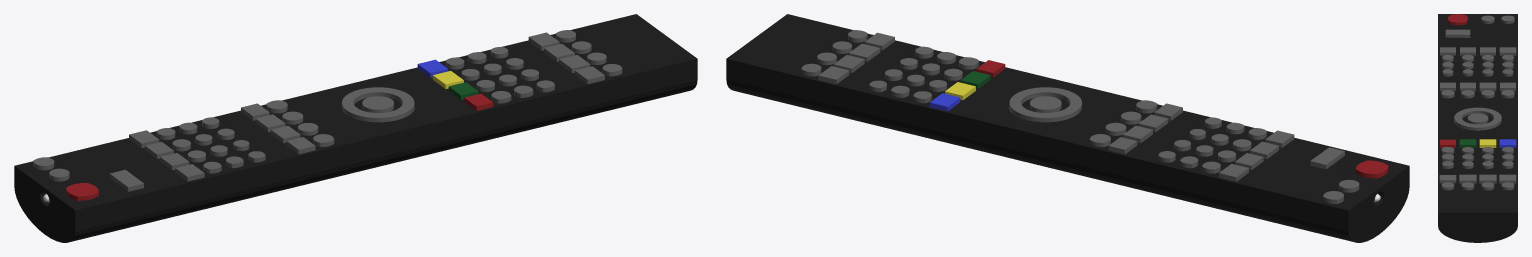
File: uploads_files_2957425_TVremote.fbx
3 views of the same model, side by side, from view 1: azimuth 30°, elevation 25°; view 2: azimuth 150°, elevation 25°; view 3: azimuth 270°, elevation 25° (orthographic). The views are drawn at different scales.
Parts seen in each view (by area): view 1: Cylinder.001, Cylinder, Cylinder.003; view 2: Cylinder.001, Cylinder, Cylinder.003; view 3: Cylinder.001, Cylinder.003, Cylinder.
Part boxes in pixels (x1,y1,x2,y2): Cylinder.001: (14,14,697,199); Cylinder: (14,59,697,242); Cylinder.003: (26,30,630,210); Cylinder.001: (726,14,1378,210); Cylinder: (726,59,1409,242); Cylinder.003: (793,30,1408,207); Cylinder.001: (1438,14,1517,212); Cylinder.003: (1438,14,1517,191); Cylinder: (1438,212,1517,242).
Bounding box in the file's own units: 1177 × 92.27 × 200.
